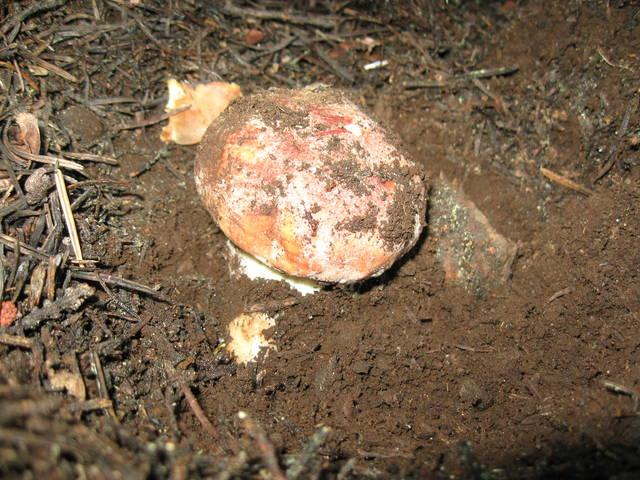Edible Mushroom: (192, 82, 429, 295)
